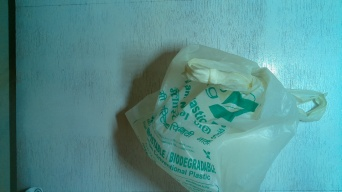f: (141, 49, 315, 192)
